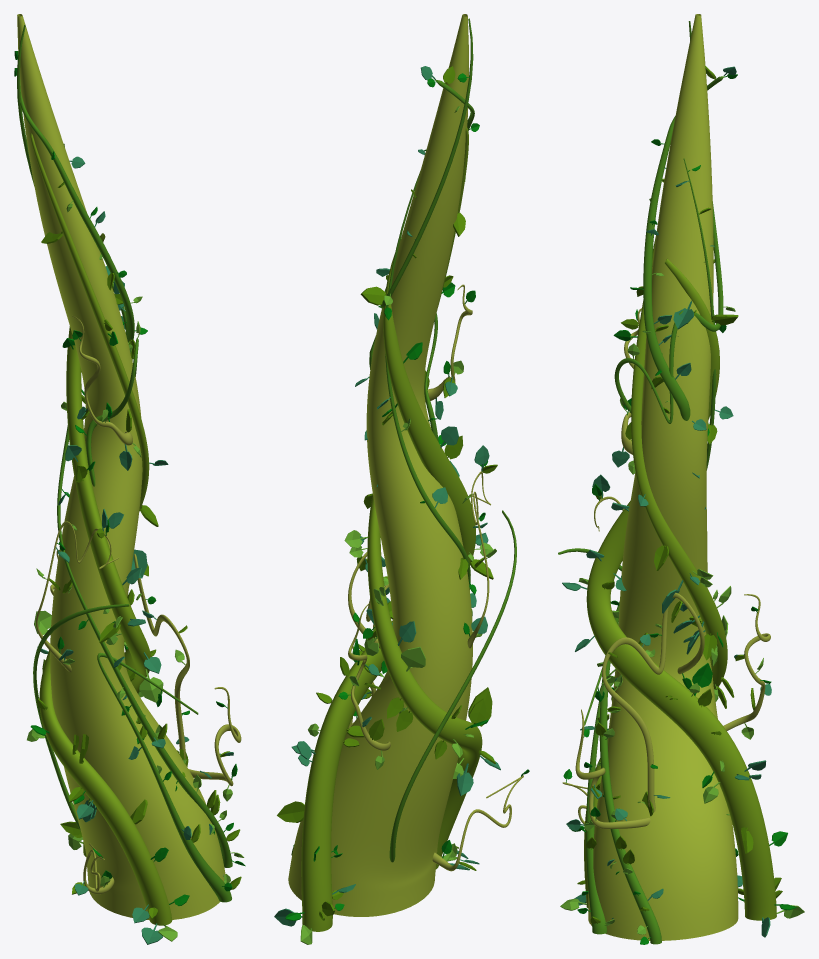
File: Bohnenranke3.fbx
3 renders of one model, left to right at view 1: azimuth 30°, elevation 25°; view 2: azimuth 150°, elevation 25°; view 3: azimuth 270°, elevation 25°, orthographic. The views are drawn at different scales.
Parts seen in each view (by area): view 1: NurbsPath.053, NurbsPath.055, NurbsPath.054, NurbsPath.056, NurbsPath.061, NurbsPath.066, NurbsPath.065, NurbsPath.062, NurbsPath.057, NurbsPath.060, NurbsPath.058, NurbsPath.063 (+1 smaller); view 2: NurbsPath.053, NurbsPath.054, NurbsPath.055, NurbsPath.065, NurbsPath.062, NurbsPath.056, NurbsPath.059, NurbsPath.064, NurbsPath.058, NurbsPath.063; view 3: NurbsPath.053, NurbsPath.054, NurbsPath.055, NurbsPath.056, NurbsPath.066, NurbsPath.057, NurbsPath.065, NurbsPath.061, NurbsPath.060, NurbsPath.064.
Part boxes in pixels (<box>): NurbsPath.053: <box>17,14,225,919</box>; NurbsPath.055: <box>30,133,172,925</box>; NurbsPath.054: <box>66,233,150,856</box>; NurbsPath.056: <box>57,144,232,867</box>; NurbsPath.061: <box>97,653,231,902</box>; NurbsPath.066: <box>20,80,134,342</box>; NurbsPath.065: <box>17,25,138,486</box>; NurbsPath.062: <box>33,604,129,831</box>; NurbsPath.057: <box>129,554,189,759</box>; NurbsPath.060: <box>188,687,241,786</box>; NurbsPath.058: <box>35,521,118,672</box>; NurbsPath.063: <box>72,315,132,445</box>; NurbsPath.053: <box>288,14,472,916</box>; NurbsPath.054: <box>301,254,475,931</box>; NurbsPath.055: <box>367,127,482,869</box>; NurbsPath.065: <box>380,18,473,441</box>; NurbsPath.062: <box>389,510,516,862</box>; NurbsPath.056: <box>291,171,470,855</box>; NurbsPath.059: <box>432,775,523,871</box>; NurbsPath.064: <box>348,603,390,750</box>; NurbsPath.058: <box>467,471,490,648</box>; NurbsPath.063: <box>425,284,472,402</box>; NurbsPath.053: <box>588,14,738,940</box>; NurbsPath.054: <box>586,258,776,920</box>; NurbsPath.055: <box>584,235,727,907</box>; NurbsPath.056: <box>599,158,716,944</box>; NurbsPath.066: <box>643,76,724,420</box>; NurbsPath.057: <box>602,592,704,812</box>; NurbsPath.065: <box>614,21,723,423</box>; NurbsPath.061: <box>584,622,618,934</box>; NurbsPath.060: <box>575,709,650,828</box>; NurbsPath.064: <box>723,594,770,730</box>.
Bounding box in the file's own units: 422 × 1782 × 465.
